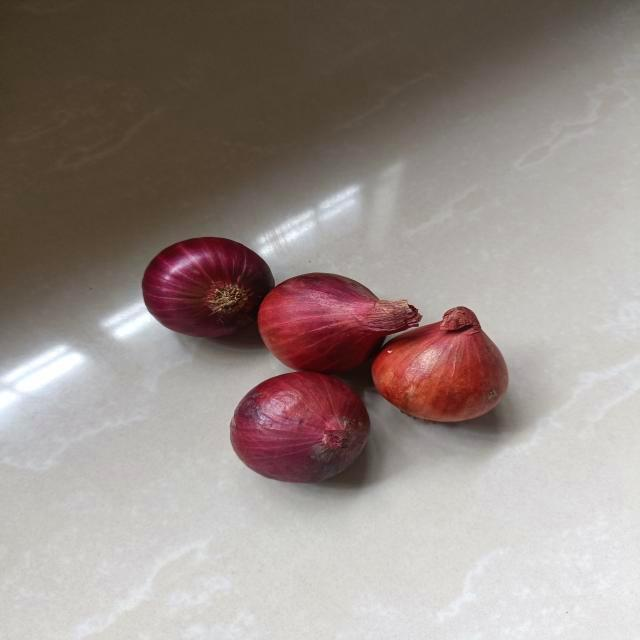onion: (255, 269, 428, 375), (223, 368, 375, 485), (369, 304, 516, 424), (138, 233, 278, 339)
